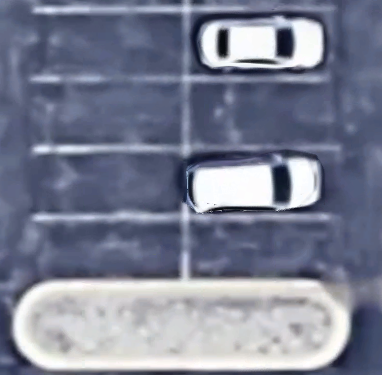Occupied: (187, 148, 339, 218), (187, 10, 337, 79)
Vacant: (31, 78, 187, 148), (186, 78, 339, 149), (32, 149, 186, 218), (31, 10, 187, 78), (32, 218, 187, 282), (186, 217, 338, 282)
